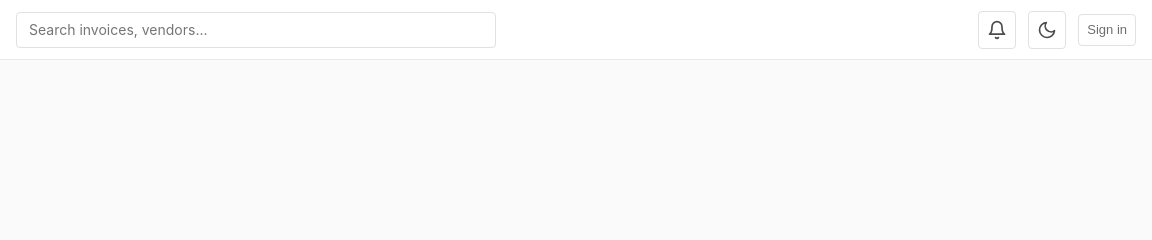
Test case: Layout Components › TopBar › toggles notification flyout when bell is clicked
Click the button named "notification" at (997, 30), box 978,10 -> 1016,48
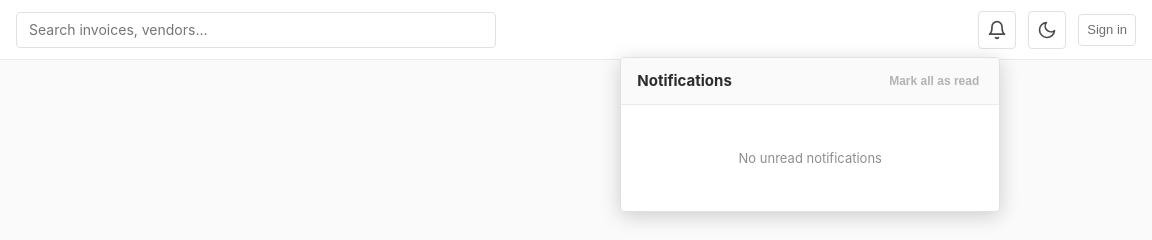
Expected: the element "Notifications Mark all as read No unread notifications" is shown, 620,56 -> 1000,212
